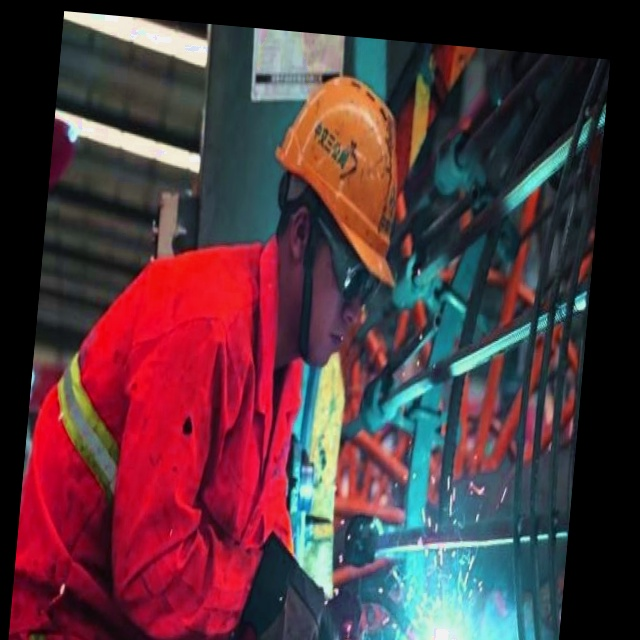Con_Casco: (260, 72, 412, 372)
